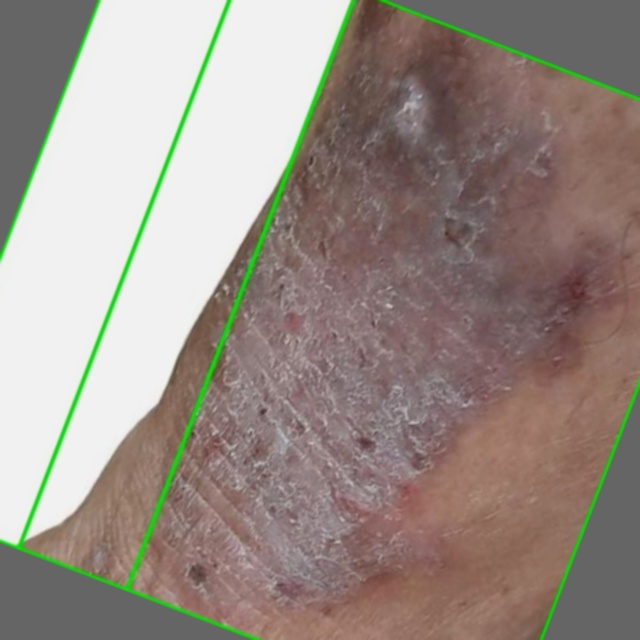Eczema: (18, 0, 639, 639), (0, 0, 353, 590)
